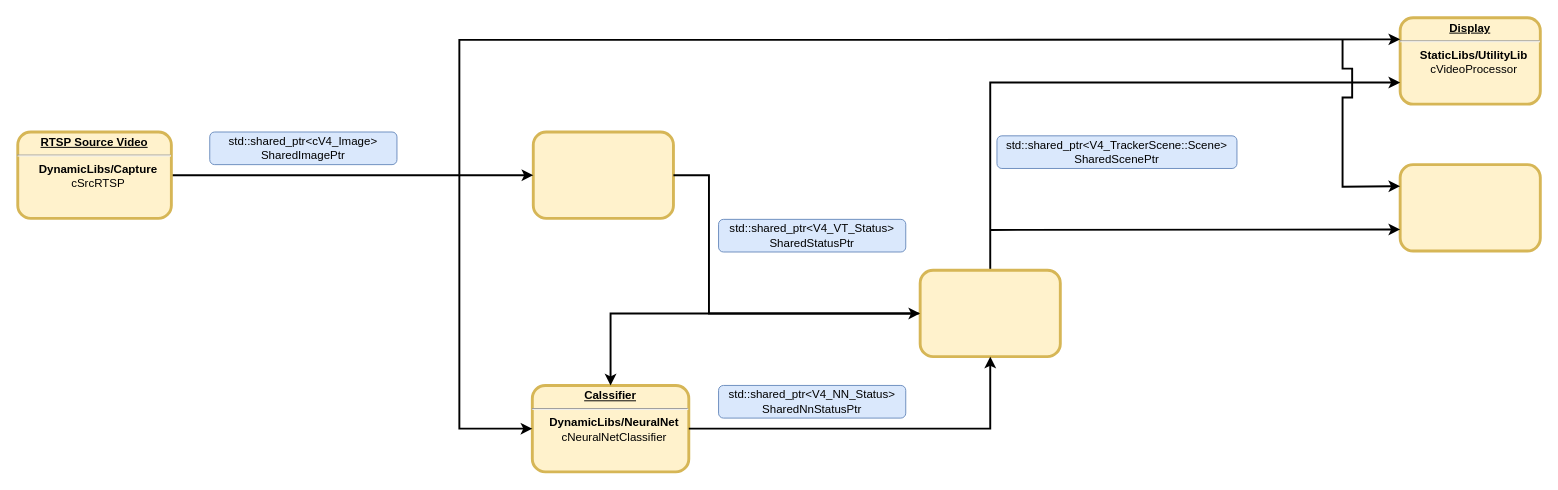
This 1558x490 diagram has some shape labels left out. The box of each missing label's shape, as (x1, y1, x2, y2) in pixels:
RTSP Output Stream StaticLibs/UtilityLib cVideoProcessor: (1398, 163, 1541, 252)
Symbology Manager StaticLibs/UtilityLib cSymbologyProcessor: (918, 268, 1061, 358)
Tracker StaticLibs/UtilityLib cVideoProcessor: (531, 130, 674, 219)
